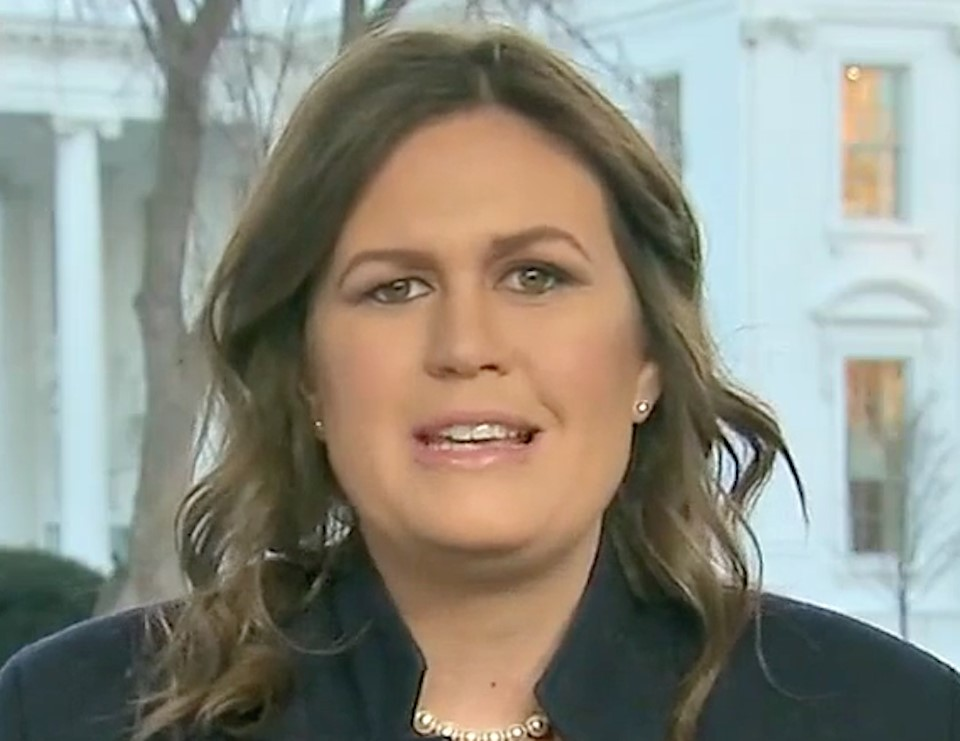face_no_mask: (284, 75, 683, 555)
